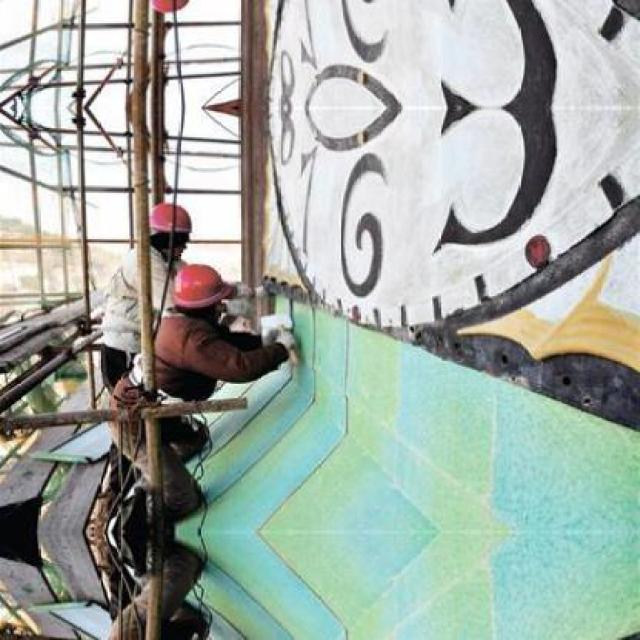helmet: (164, 254, 236, 321), (148, 198, 188, 263), (148, 0, 189, 19)
